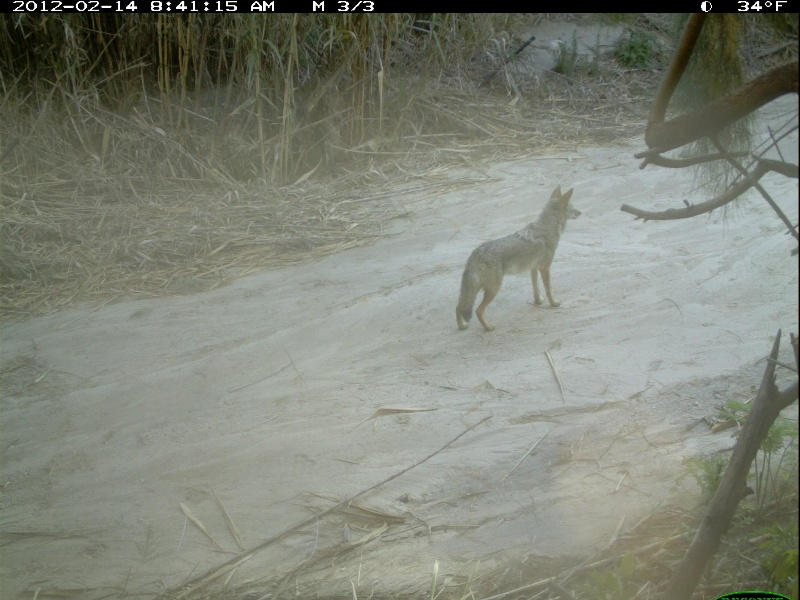coyote: (448, 185, 583, 341)
